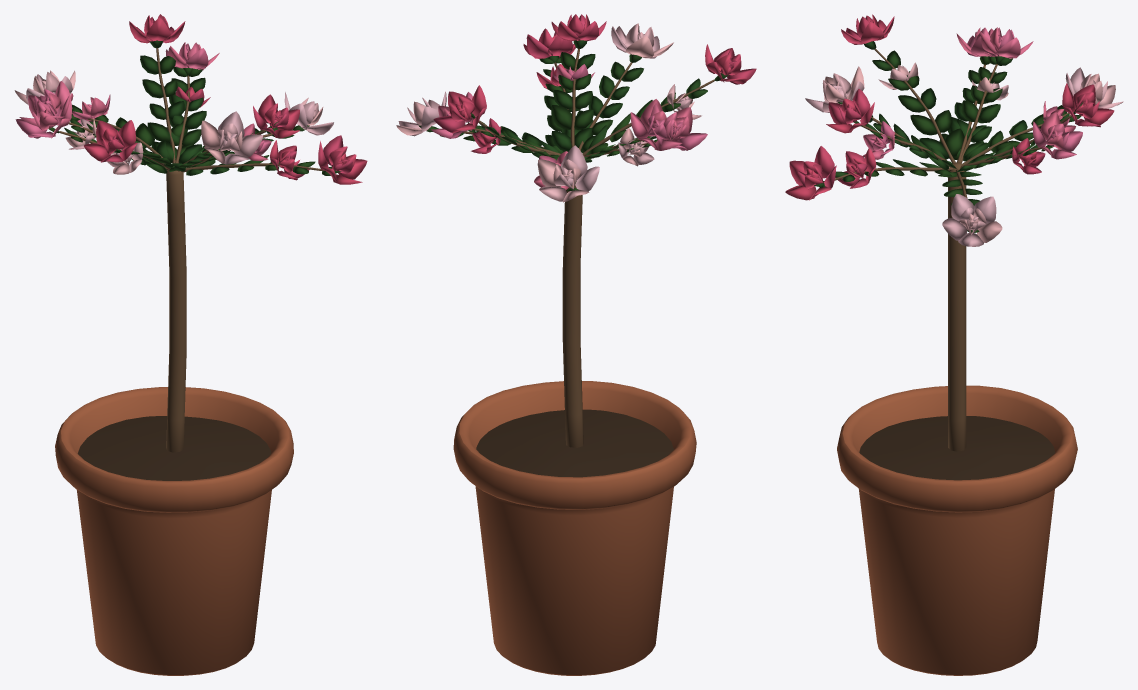
File: pot_rose.glb
3 views of the same model, side by side, from view 1: azimuth 30°, elevation 25°; view 2: azimuth 150°, elevation 25°; view 3: azimuth 270°, elevation 25° (orthographic). The views are drawn at different scales.
Parts seen in each view (by area): view 1: Sammel Putz, Sammel Pflanze, Sammel Holz; view 2: Sammel Putz, Sammel Pflanze, Sammel Holz; view 3: Sammel Putz, Sammel Pflanze, Sammel Holz.
Boxes of the visible parts, x1,y1,x2,y2 form: Sammel Putz: (55, 387, 293, 675); Sammel Pflanze: (14, 14, 367, 184); Sammel Holz: (59, 48, 323, 452); Sammel Putz: (453, 381, 696, 675); Sammel Pflanze: (396, 14, 756, 202); Sammel Holz: (463, 48, 714, 447); Sammel Putz: (837, 385, 1077, 675); Sammel Pflanze: (785, 14, 1123, 246); Sammel Holz: (834, 48, 1071, 451).
Bounding box in the file's own units: 0.7017 × 1.27 × 0.6734.
